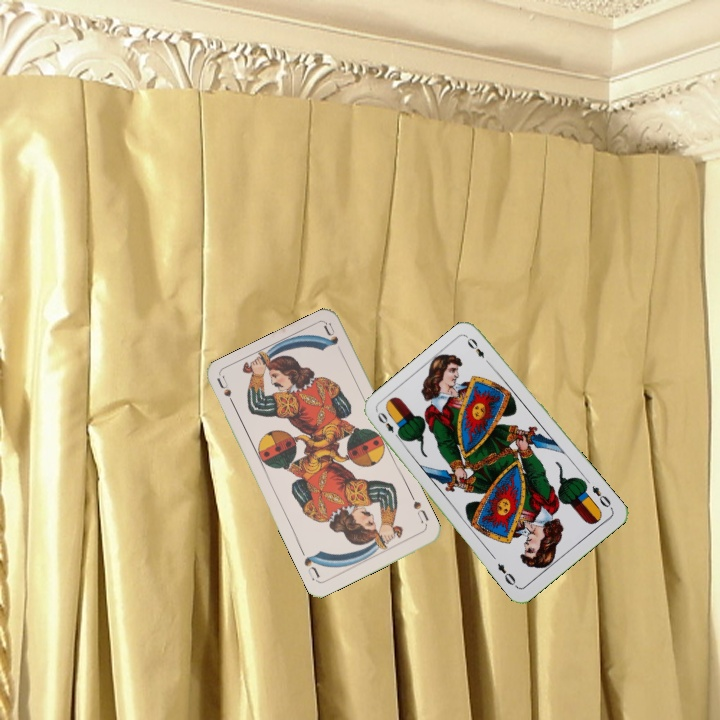EO: (373, 408, 404, 443), (588, 482, 615, 512)
SU: (213, 372, 239, 412), (407, 491, 431, 526)
